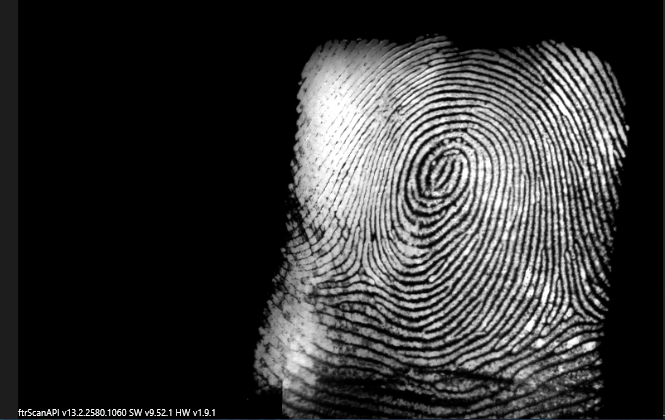deltas: (549, 285, 592, 338), (337, 247, 381, 293)
nucleo: (428, 149, 462, 189)
